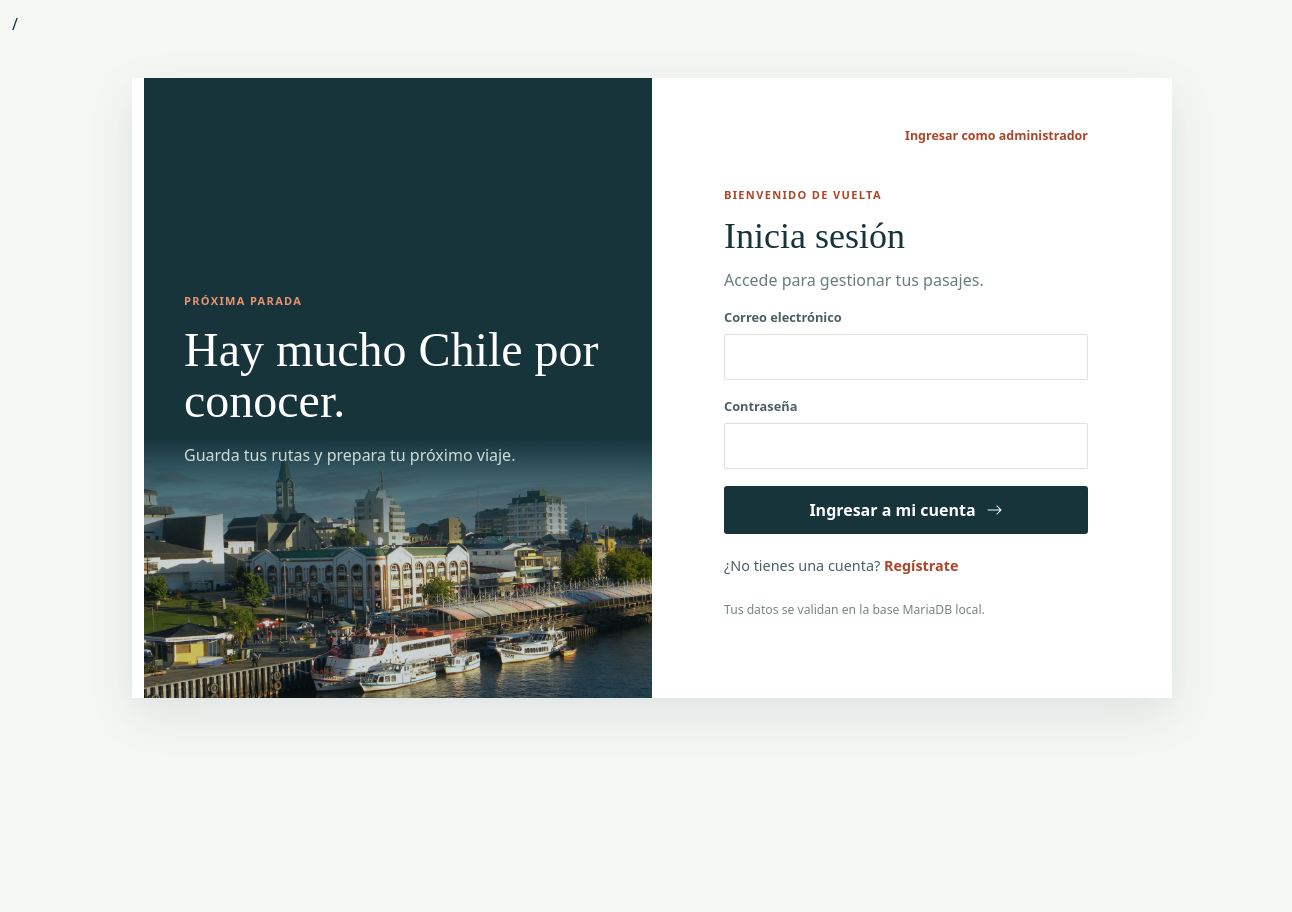
Test: LoginPage › muestra errores de autenticación de la API
In the field labelled "Correo electrónico": (906, 357) [724,334,1088,380], type "user@example.com"
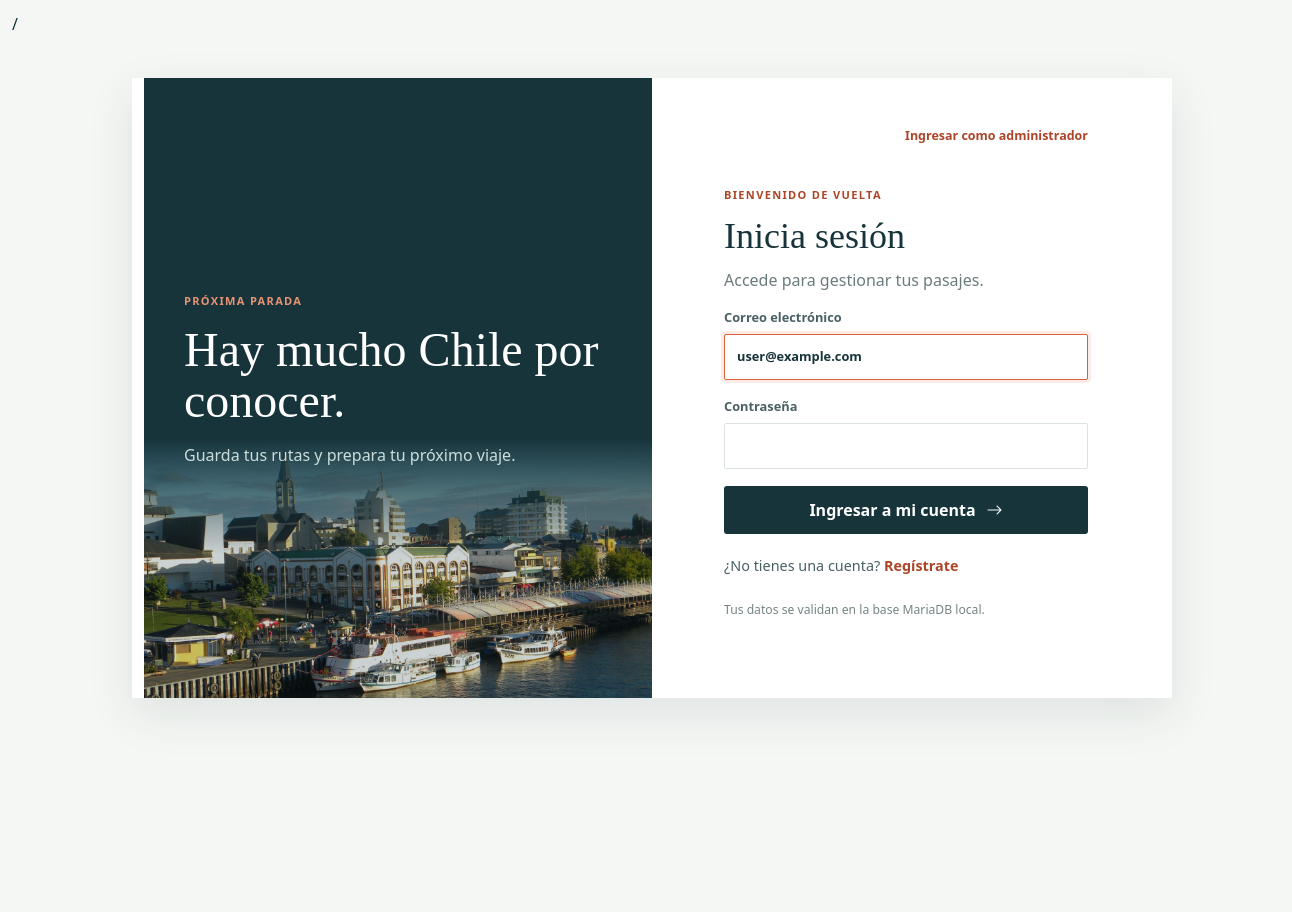
In the password field labelled "Contraseña": (906, 446) [724,423,1088,469], type "incorrecta"
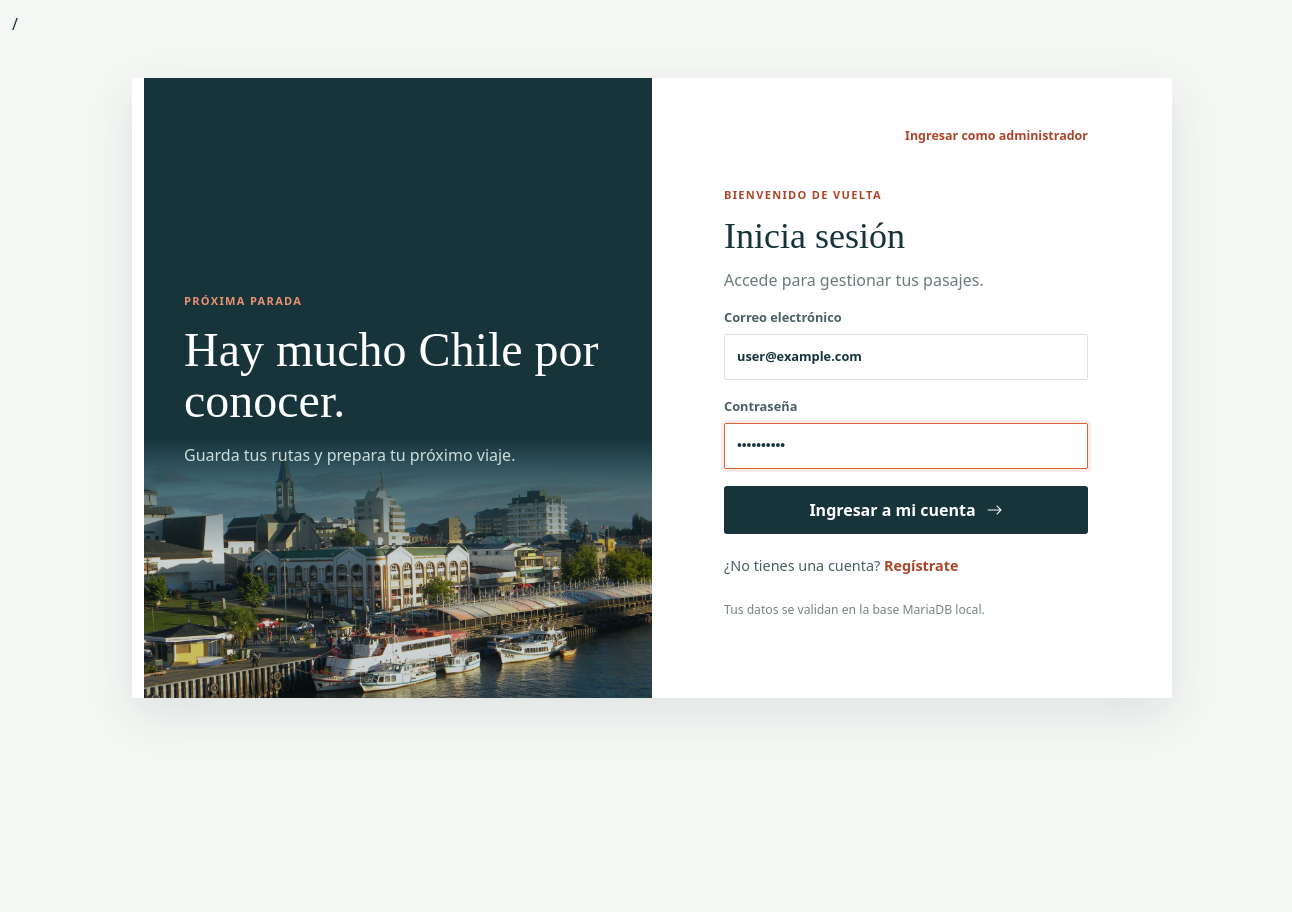
Click the button "Ingresar a mi cuenta": (906, 510) [724,486,1088,534]
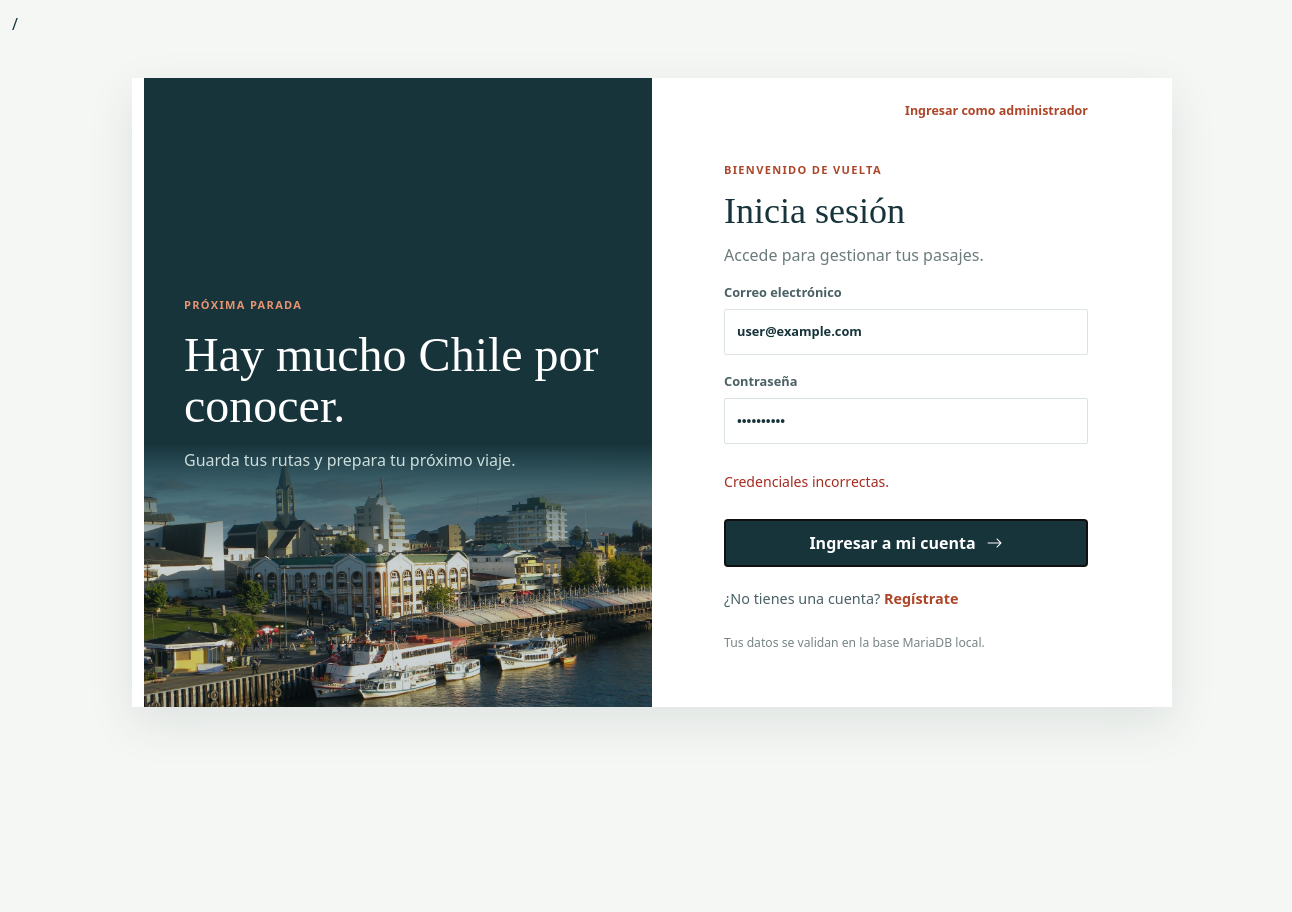
Now the message reads "Credenciales incorrectas.", box [724,472,889,491]
